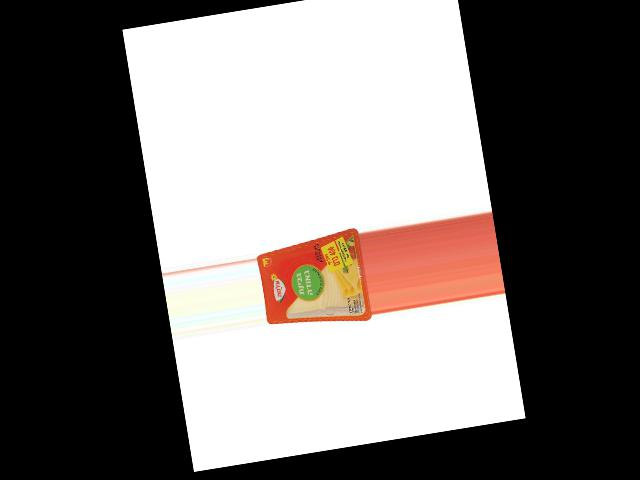cheese: (255, 227, 373, 335)
